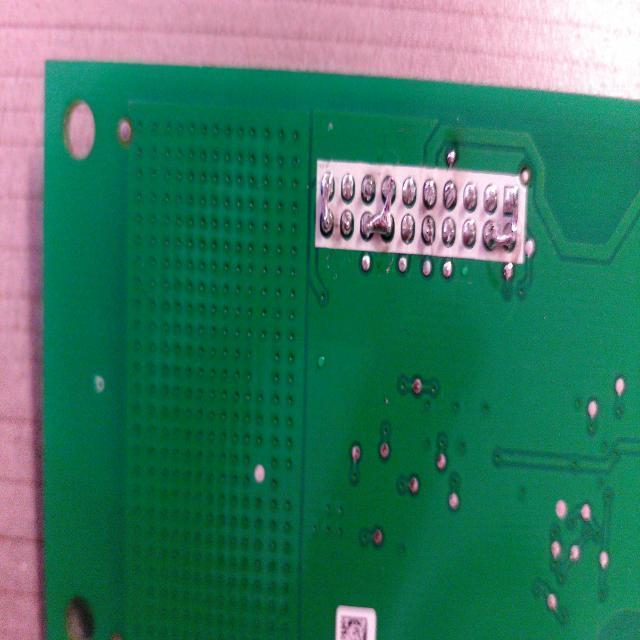Soldering shorted: (359, 165, 396, 248), (482, 184, 522, 258), (317, 165, 337, 245)
